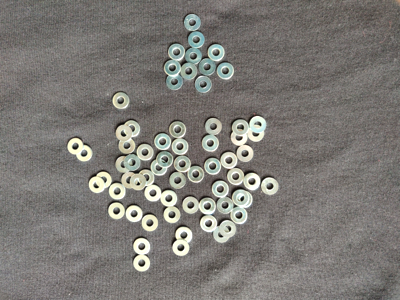circle: (244, 173, 261, 191), (144, 185, 162, 202), (217, 197, 234, 215), (133, 255, 151, 272), (250, 116, 267, 133), (248, 125, 265, 142), (231, 129, 248, 146), (217, 63, 234, 80), (208, 44, 225, 61), (237, 145, 254, 162), (184, 14, 201, 31), (188, 31, 205, 48), (199, 59, 216, 76), (195, 76, 212, 93), (205, 118, 222, 135), (202, 135, 219, 152), (221, 152, 238, 169), (204, 158, 221, 175), (172, 138, 189, 155), (113, 92, 130, 109), (116, 125, 133, 142), (262, 178, 279, 195), (212, 181, 229, 198), (137, 144, 154, 161), (130, 174, 147, 191), (138, 170, 155, 187), (151, 159, 168, 176), (161, 190, 178, 207), (164, 207, 181, 224), (176, 227, 193, 244), (173, 240, 190, 257), (183, 197, 200, 214), (200, 215, 217, 232), (220, 221, 237, 238), (233, 190, 250, 207), (236, 191, 253, 208), (231, 207, 248, 224), (109, 183, 126, 200), (108, 203, 125, 220), (141, 215, 158, 232), (232, 120, 250, 136), (118, 138, 136, 154), (186, 48, 202, 65), (181, 63, 197, 80), (169, 44, 185, 61), (164, 60, 181, 76), (166, 74, 183, 90), (188, 166, 204, 183), (175, 156, 191, 173), (170, 121, 186, 138), (154, 134, 171, 150), (124, 120, 140, 137), (228, 168, 244, 185), (124, 155, 141, 171), (96, 172, 112, 189), (200, 198, 216, 215), (213, 227, 230, 243), (126, 206, 143, 222), (133, 239, 150, 255), (76, 145, 92, 162), (68, 138, 84, 155), (157, 152, 174, 168), (170, 173, 186, 189), (116, 157, 132, 173), (89, 177, 105, 193), (122, 173, 138, 189)
